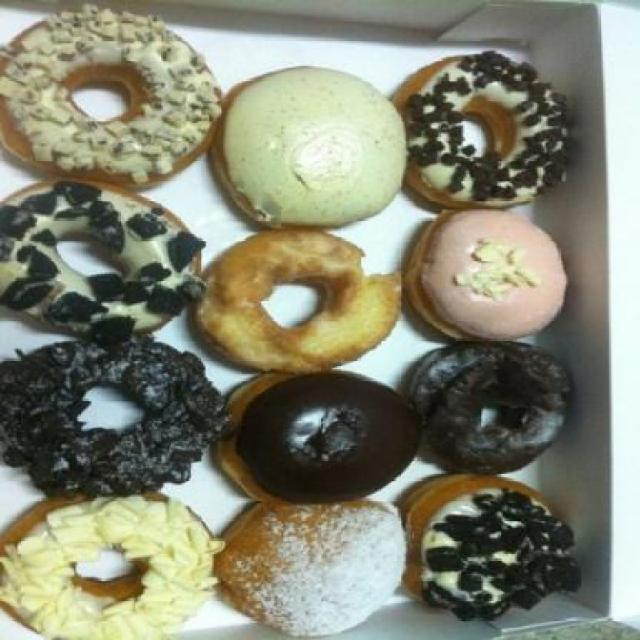Donuts: (6, 2, 588, 640)
